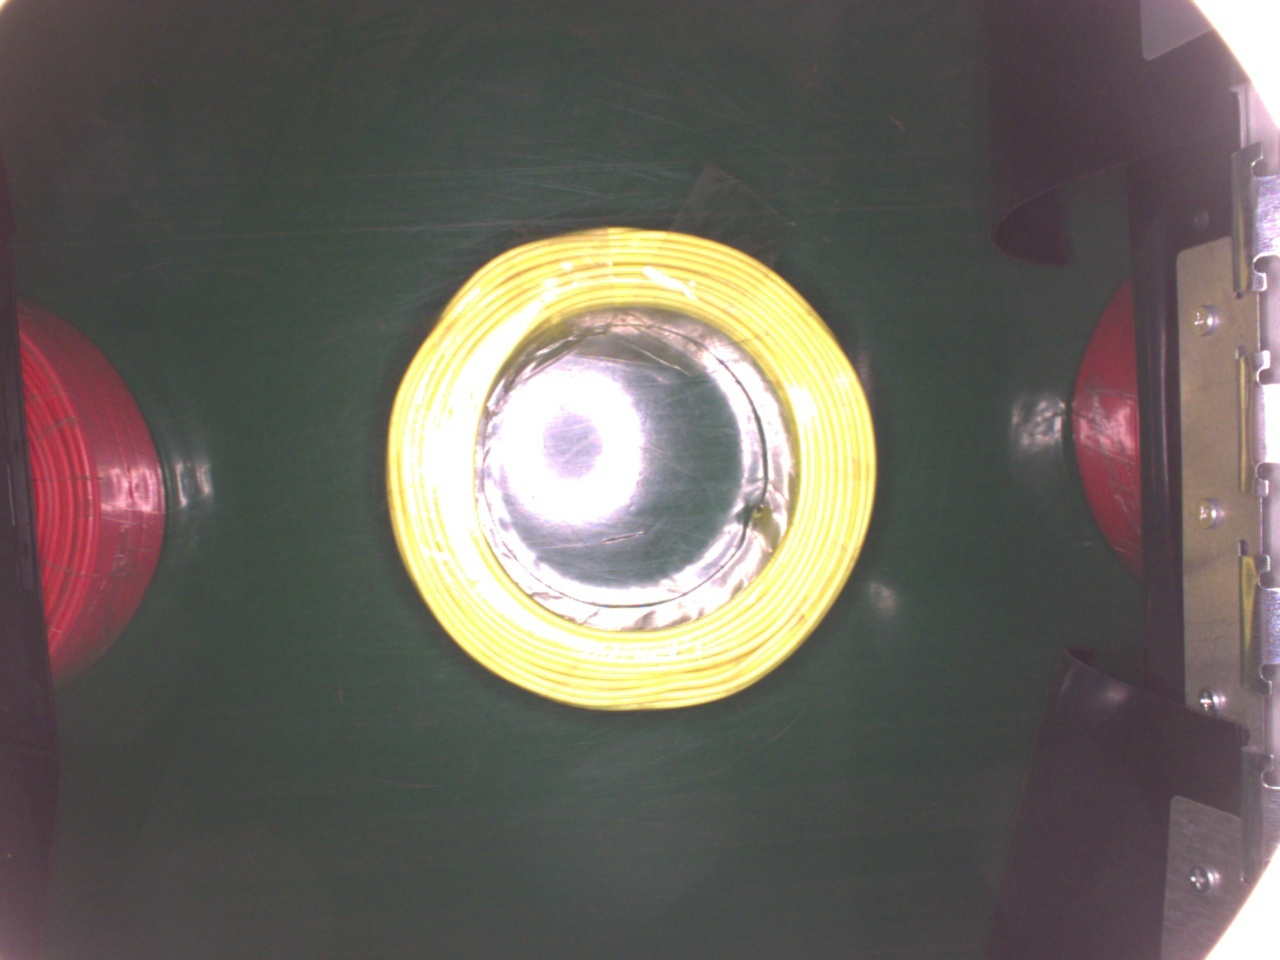red: (3, 292, 169, 690)
yellow: (379, 224, 880, 716)
